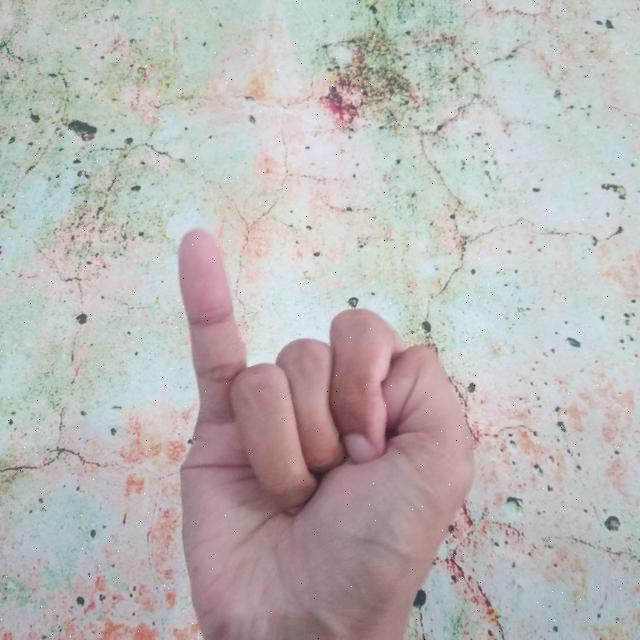I: (168, 221, 486, 640)
